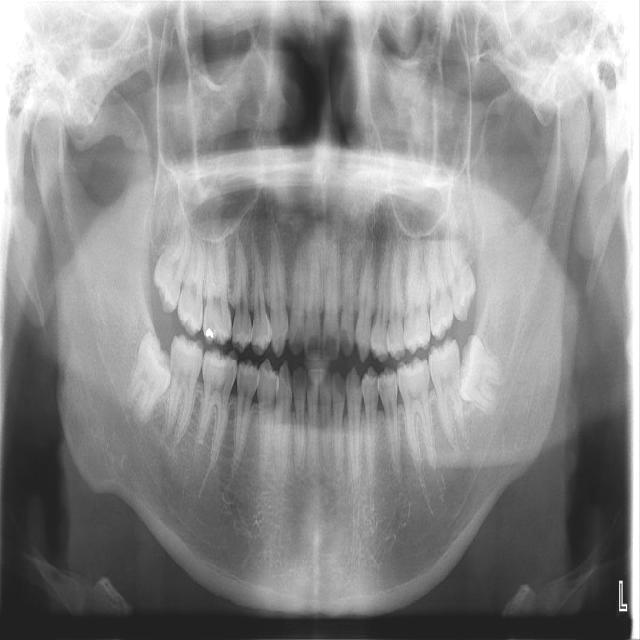Filling: (203, 325, 220, 342)
impacted tooth: (123, 335, 171, 428), (460, 335, 512, 415)
